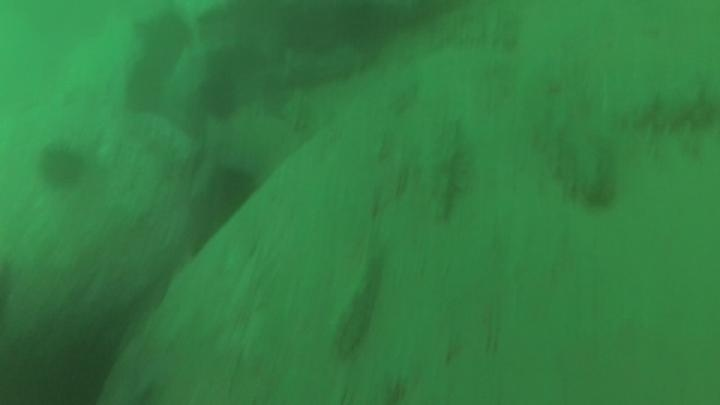echinus: (135, 10, 195, 71), (202, 163, 262, 223), (121, 57, 172, 117), (35, 140, 88, 192), (196, 73, 242, 122)
holothurian: (613, 83, 720, 138)
